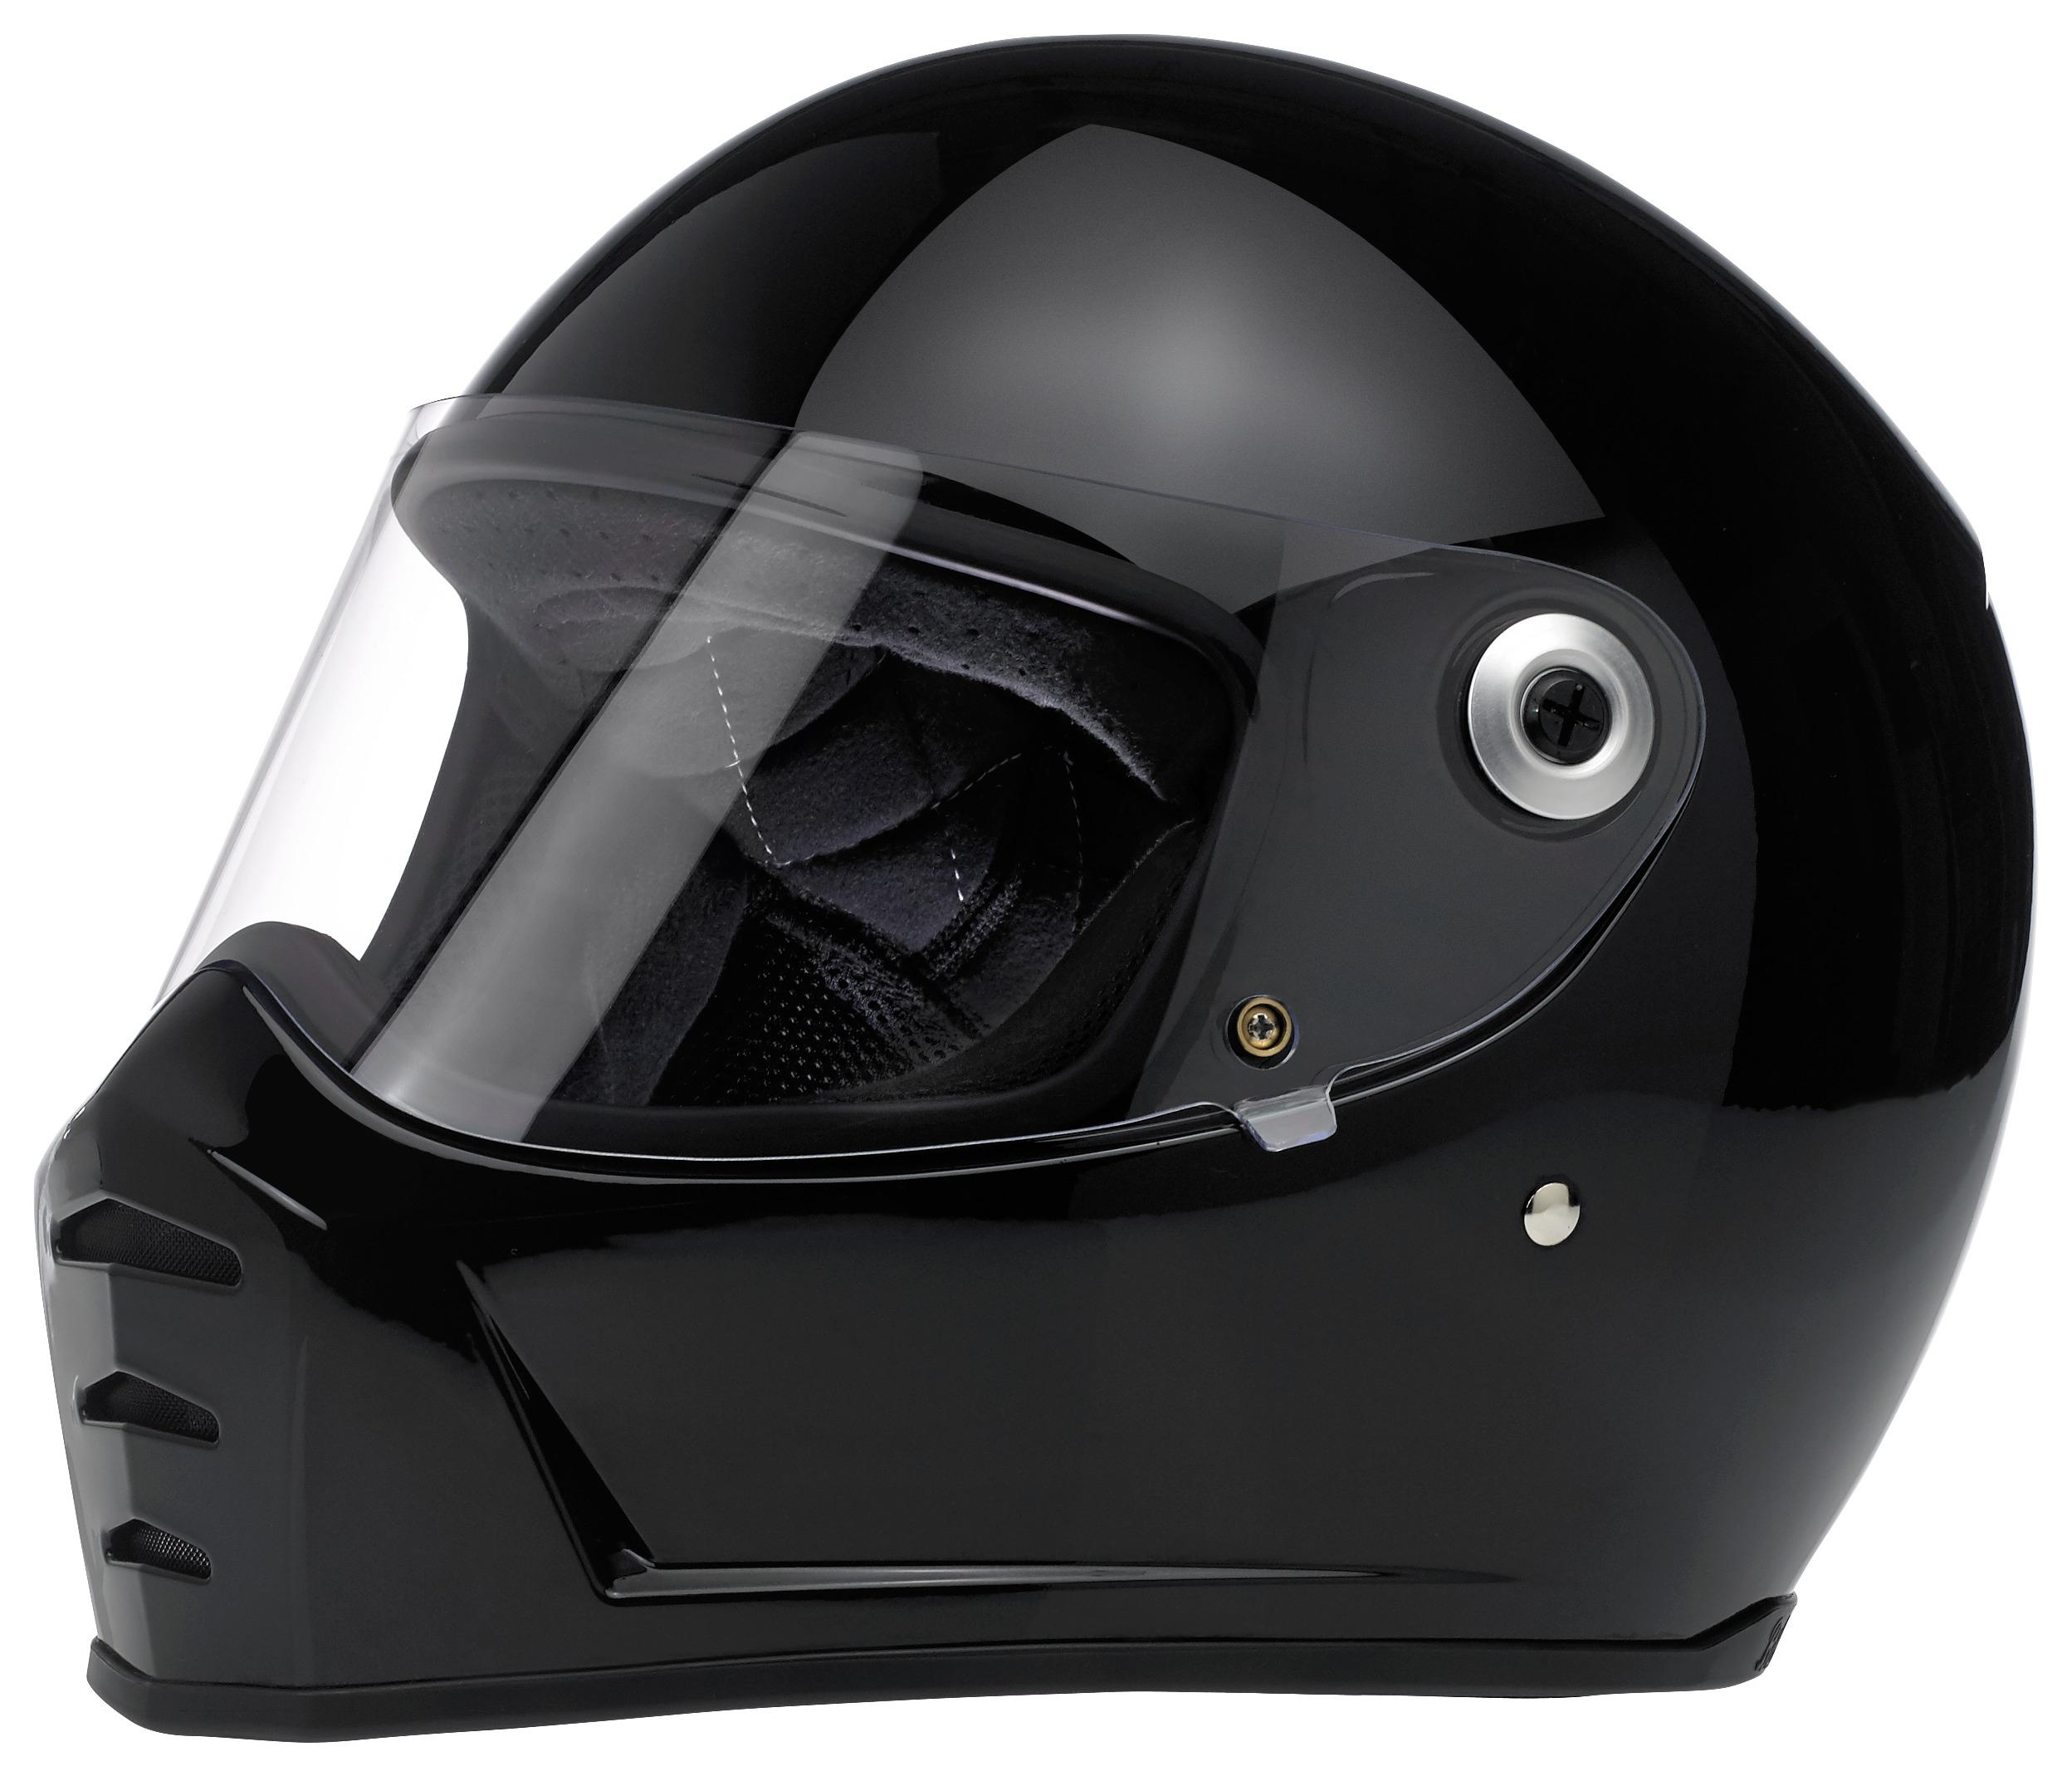helmet: (37, 41, 2031, 1741)
